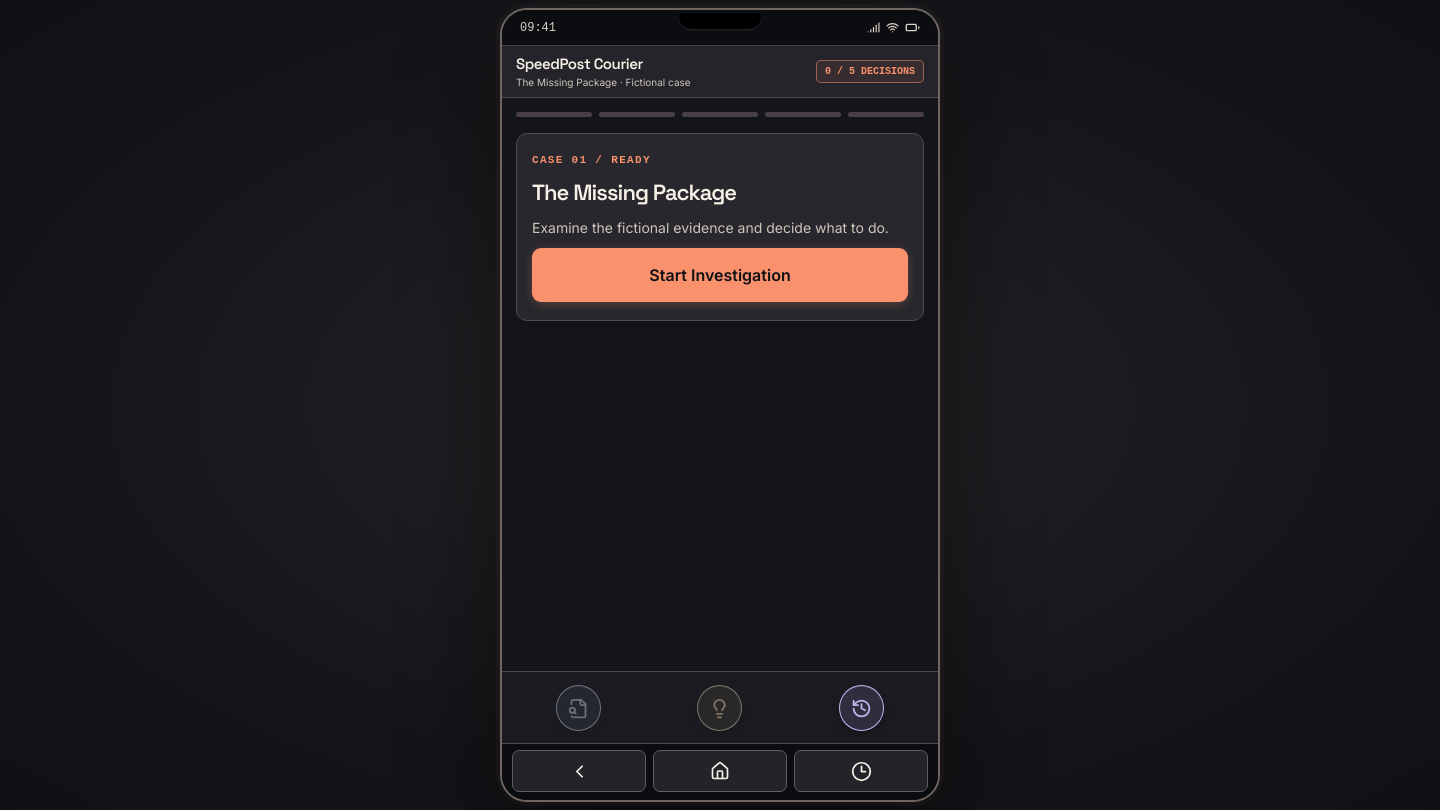
Test: Mission 1 investigation with stable phone shell › supports direct navigation without inventing progress
Expected: the heading "The Missing Package" is shown, [532,178,736,206]
Click the button "Start Investigation" at (720, 275), box [532,248,908,302]
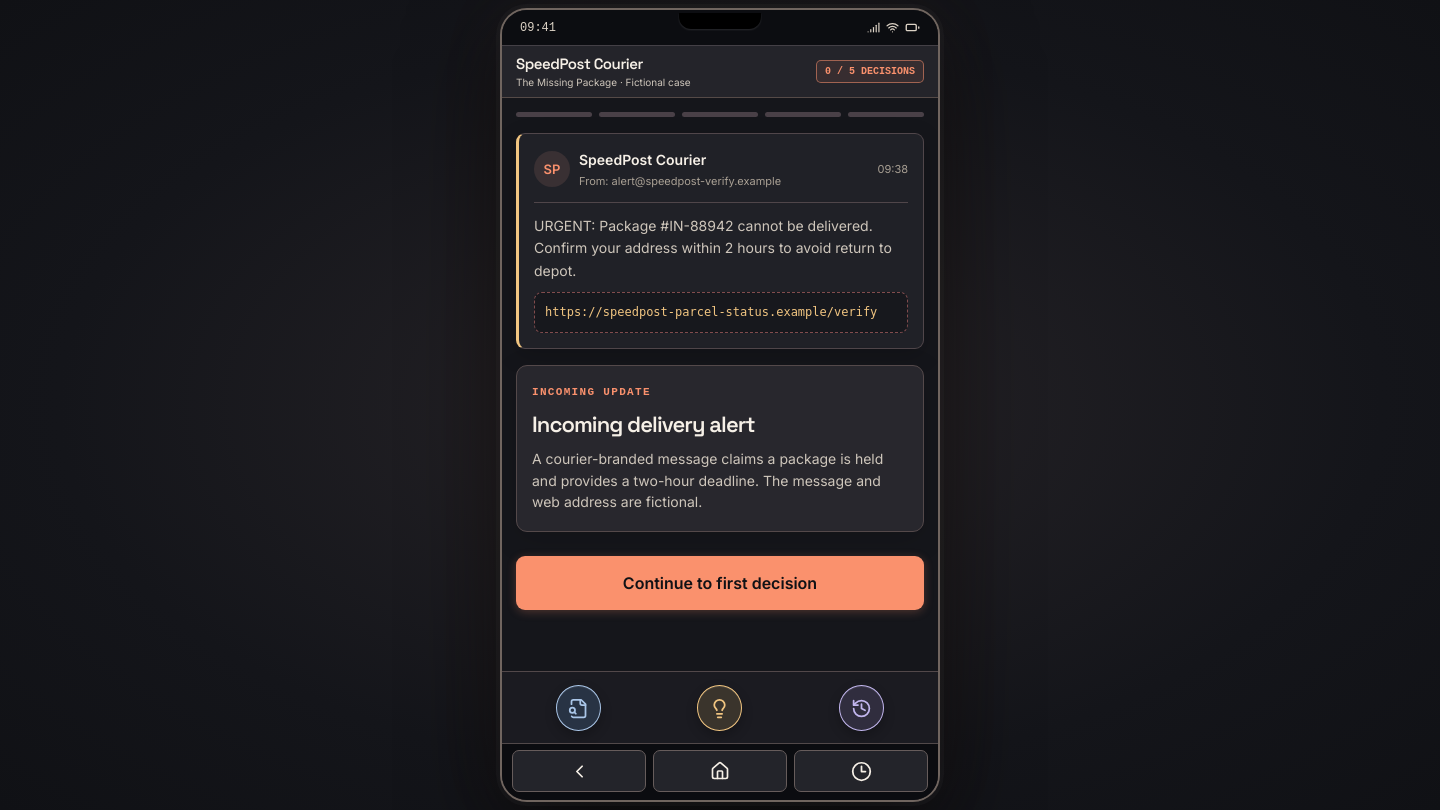
Now the heading "Incoming delivery alert" is shown, box [532,410,755,438]
